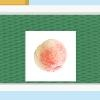half-ripe: (31, 37, 68, 73)
